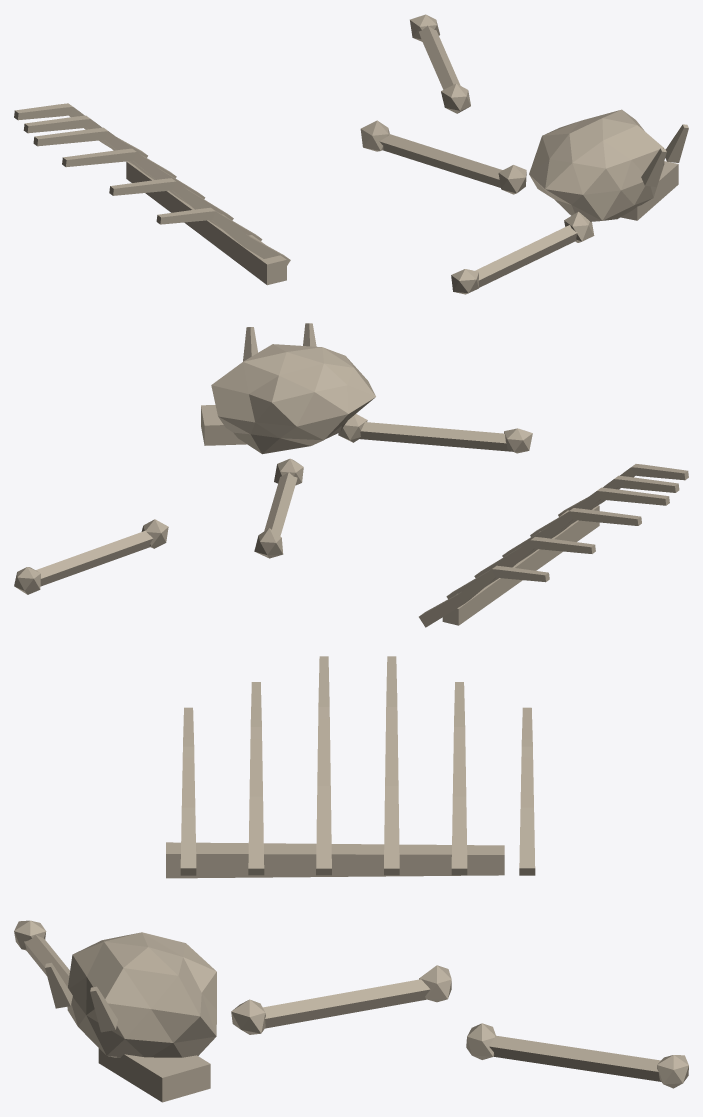
Rendered from bones.glb.
3 views of the same model, one above another, from view 1: azimuth 30°, elevation 25°; view 2: azimuth 150°, elevation 25°; view 3: azimuth 270°, elevation 25° (orthographic). The views are drawn at different scales.
Parts seen in each view (by area): view 1: bones; view 2: bones; view 3: bones.
Boxes of the visible parts, box(x1,y1,x2,y2) form: bones: box(14, 14, 688, 294); bones: box(14, 323, 688, 627); bones: box(14, 656, 688, 1102).
Bounding box in the file's own units: 3.32 × 0.6733 × 2.99.
